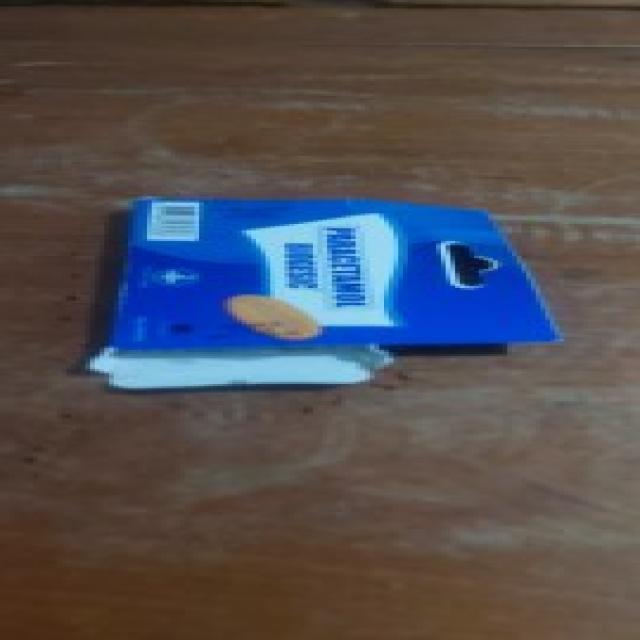Cacat: (80, 198, 536, 389)
Kemasan: (88, 346, 403, 384)
